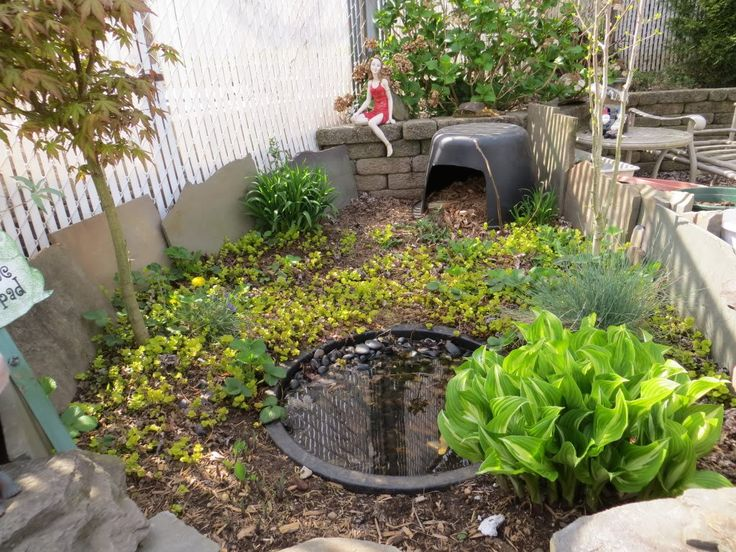container: (685, 175, 736, 212)
water: (288, 329, 501, 493)
